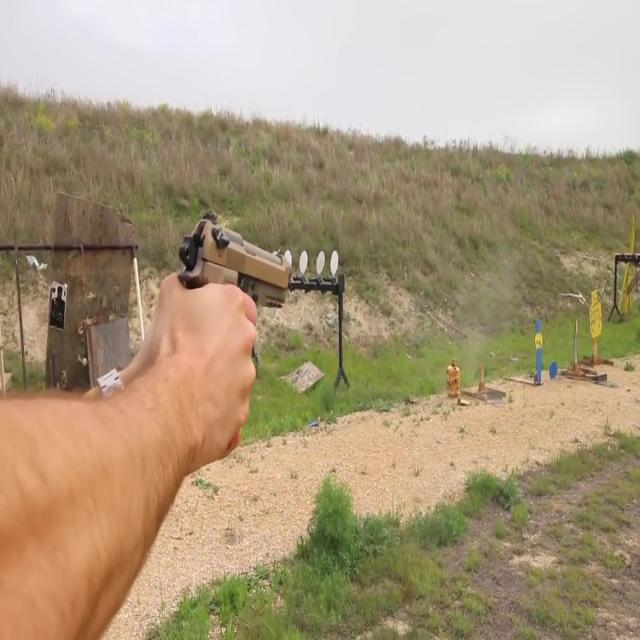Weapon: (139, 141, 341, 426)
